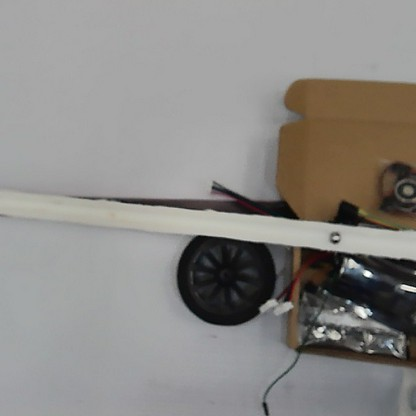ironball: (327, 229, 343, 245)
